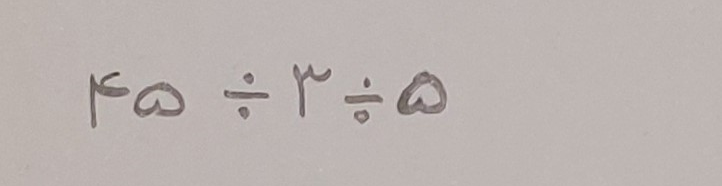character: (89, 71, 129, 129), (292, 63, 332, 120), (396, 70, 445, 115), (223, 72, 268, 120), (344, 77, 384, 123), (133, 82, 184, 117)
